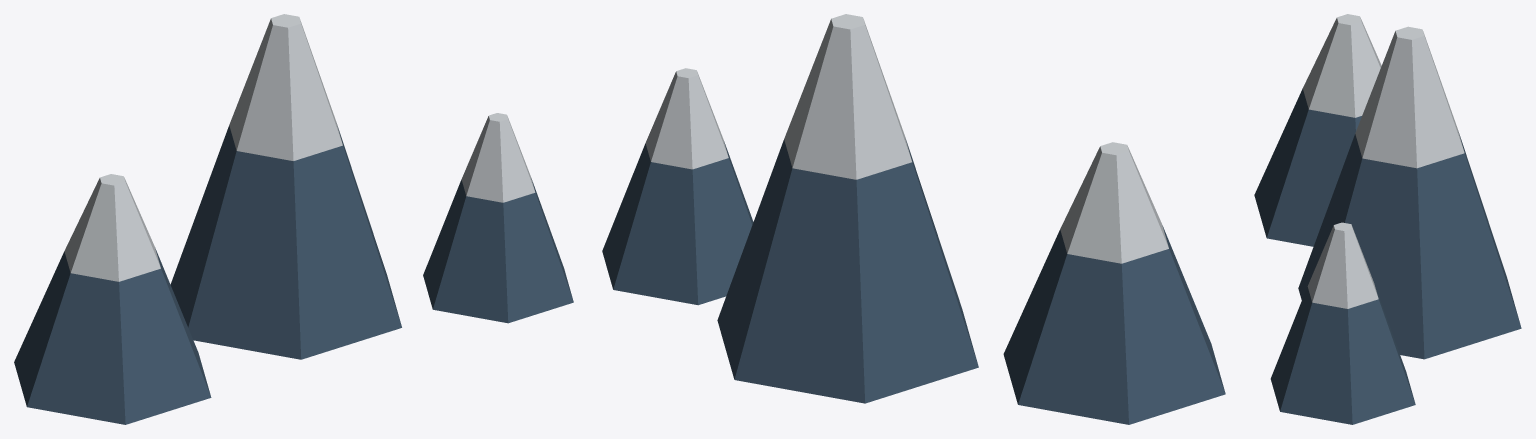
File: Frosty_MountainBackdrop_Simple.glb
The picture shows the model from 3 angles, left to right: view 1: azimuth 30°, elevation 25°; view 2: azimuth 150°, elevation 25°; view 3: azimuth 270°, elevation 25°; orthographic projection. The views are drawn at different scales.
Parts seen in each view (by area): view 1: Frosty_MountainBackdrop_Simple; view 2: Frosty_MountainBackdrop_Simple; view 3: Frosty_MountainBackdrop_Simple.
Part boxes in pixels (x1,y1,x2,y2): Frosty_MountainBackdrop_Simple: (14, 14, 573, 424); Frosty_MountainBackdrop_Simple: (602, 14, 1225, 424); Frosty_MountainBackdrop_Simple: (1254, 14, 1521, 424).
Bounding box in the file's own units: 19.96 × 10 × 8.81.
